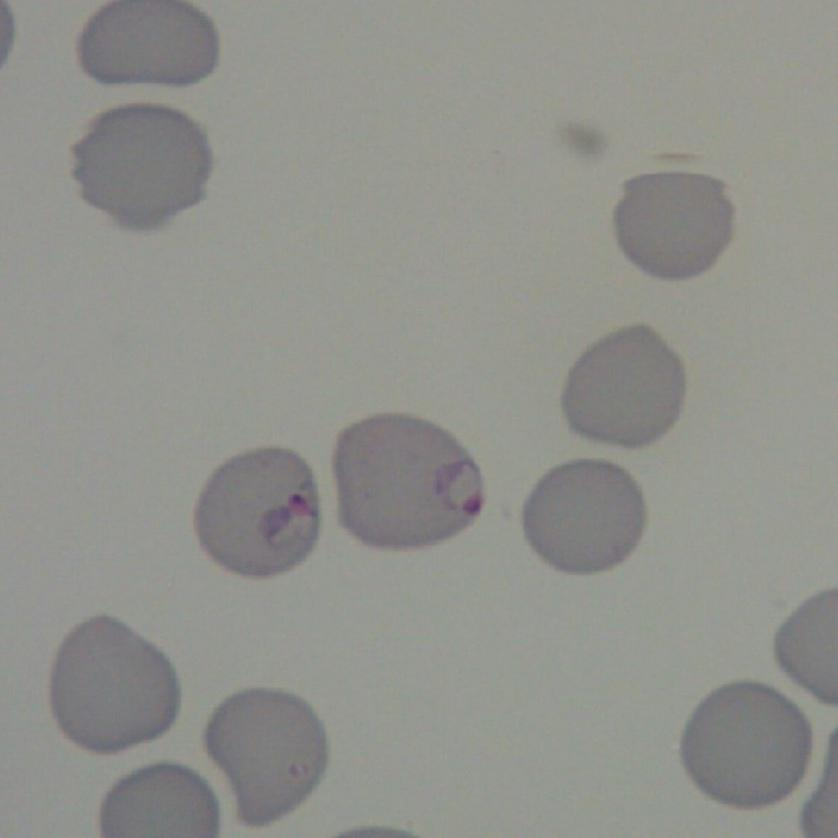Infected: (350, 285, 509, 422), (520, 261, 646, 392)
Uninfected: (654, 83, 787, 222), (626, 609, 769, 735), (26, 29, 163, 157), (510, 11, 633, 146), (154, 385, 275, 512), (190, 265, 317, 376), (104, 557, 226, 666), (618, 753, 753, 838), (614, 0, 741, 75)
